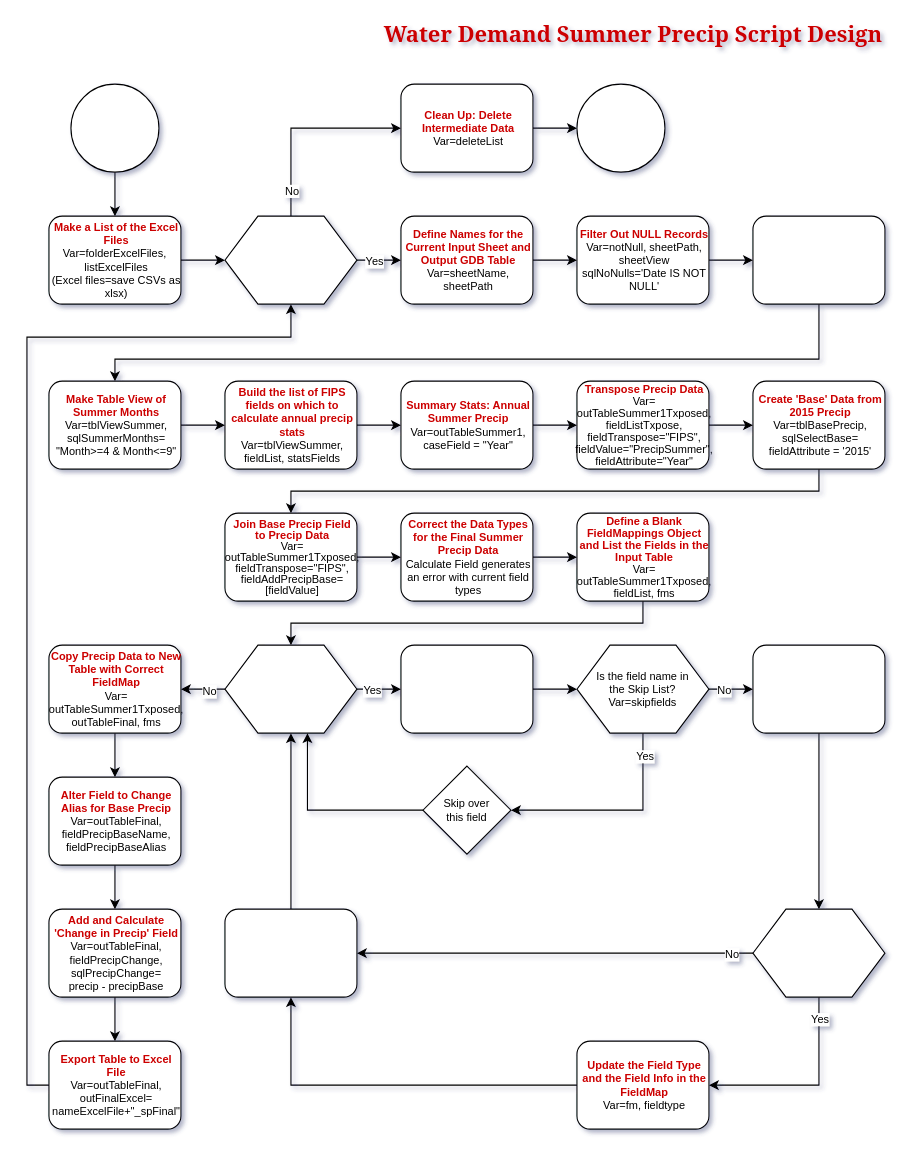
This 911x1155 diagram has some shape labels left out. Here are the shapes that lost their labels. From the top down, the box of each, then its label:
(70, 83, 159, 172): Start Python Script
(576, 83, 665, 172): End Python Script
(224, 215, 357, 304): Is there another Excel file in the list? Var= xlsxName
(752, 215, 885, 304): Copy Selected Rows into the WorkDir GDB as aTable Var=tblViewNoNulls, tblPrecip
(224, 644, 357, 733): Is there another field in fieldList? Var=fieldList
(400, 644, 533, 733): Set the Current Field and Get Its Name Var=field
(752, 644, 885, 733): Create a Blank FieldMap and Add Input FC Field Info to it Var=fm
(224, 908, 357, 997): Add the FieldMap to the FieldMappings Object Var=fms
(752, 908, 885, 997): Does the field.name match one you wish to modify?
